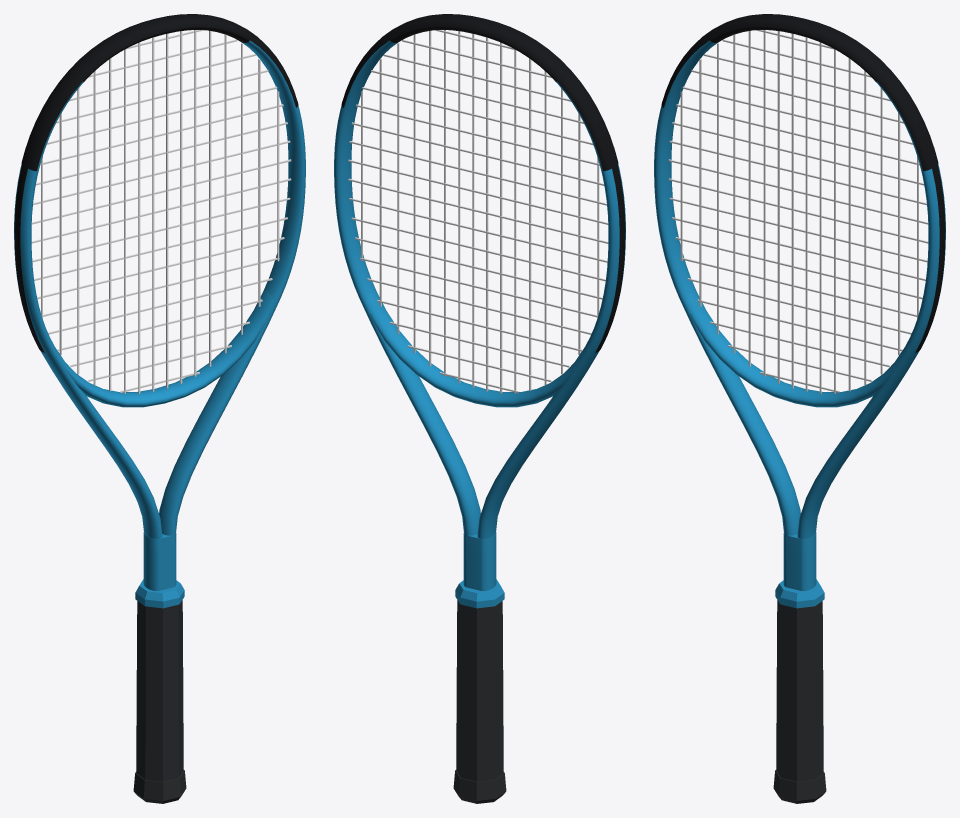
File: wilson-ultra-pro-16x19-v4.glb
The picture shows the model from 3 angles, left to right: view 1: azimuth 30°, elevation 25°; view 2: azimuth 150°, elevation 25°; view 3: azimuth 330°, elevation 25°; orthographic projection.
Parts seen in each view (by area): view 1: frame, strings_mains, strings_crosses, grip, bumper, butt_cap, grommets, collar; view 2: frame, strings_mains, strings_crosses, grip, bumper, butt_cap, grommets, collar; view 3: frame, strings_mains, strings_crosses, grip, bumper, butt_cap, grommets, collar.
Part boxes in pixels (x1=…): frame: x1=14, y1=27, x2=305, y2=590; strings_mains: x1=41, y1=30, x2=279, y2=393; strings_crosses: x1=31, y1=30, x2=291, y2=392; grip: x1=136, y1=600, x2=183, y2=781; bumper: x1=21, y1=14, x2=298, y2=171; butt_cap: x1=133, y1=770, x2=186, y2=803; grommets: x1=14, y1=164, x2=44, y2=352; collar: x1=135, y1=579, x2=184, y2=608; frame: x1=334, y1=27, x2=625, y2=590; strings_mains: x1=361, y1=30, x2=599, y2=393; strings_crosses: x1=348, y1=30, x2=608, y2=393; grip: x1=456, y1=600, x2=503, y2=781; bumper: x1=341, y1=14, x2=618, y2=171; butt_cap: x1=453, y1=770, x2=506, y2=803; grommets: x1=595, y1=164, x2=625, y2=352; collar: x1=455, y1=579, x2=504, y2=608; frame: x1=654, y1=27, x2=945, y2=590; strings_mains: x1=680, y1=30, x2=918, y2=393; strings_crosses: x1=668, y1=30, x2=928, y2=392; grip: x1=776, y1=600, x2=823, y2=781; bumper: x1=661, y1=14, x2=938, y2=171; butt_cap: x1=773, y1=770, x2=826, y2=803; grommets: x1=915, y1=164, x2=945, y2=352; collar: x1=775, y1=579, x2=824, y2=608.
Size of the model in its own units: 0.2659 by 0.6861 by 0.0396.
